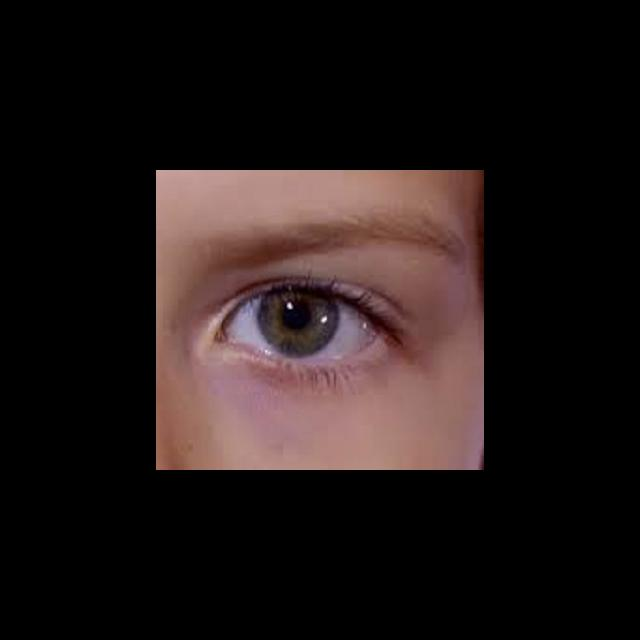eye: (225, 287, 381, 365)
iris: (258, 289, 338, 358)
